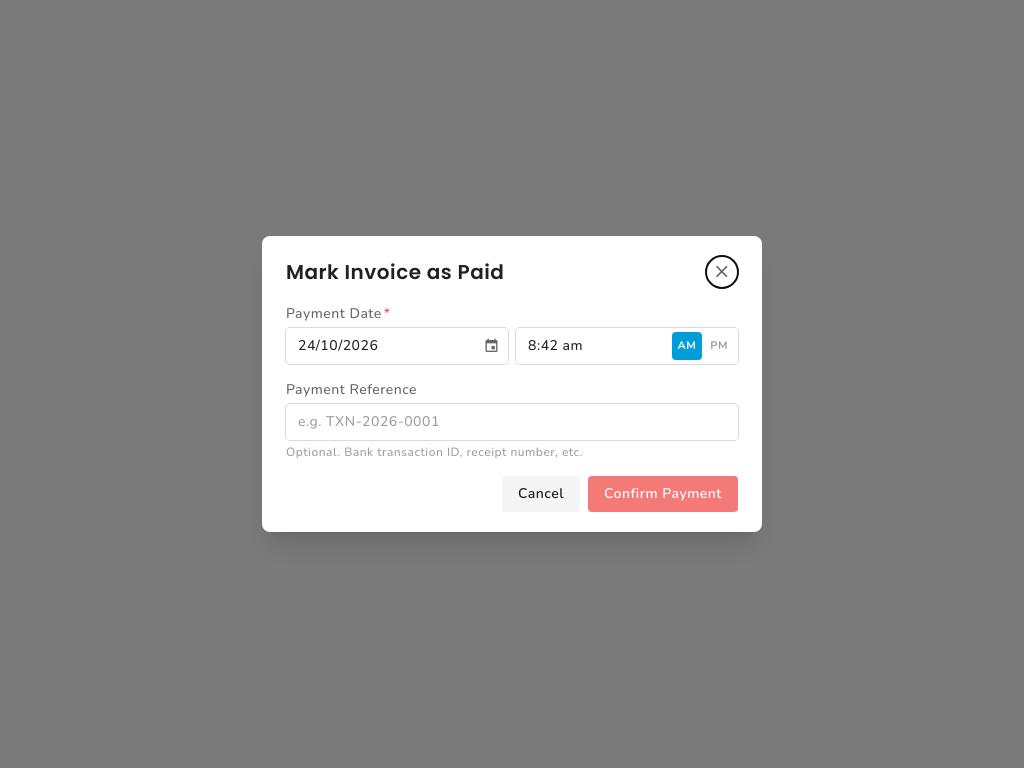
Test: MarkInvoicePaidModal › shows validation error when Payment Date is cleared and form is submitted
Clear the field named "Payment Date - date" at (383, 346), box [286, 328, 480, 364]
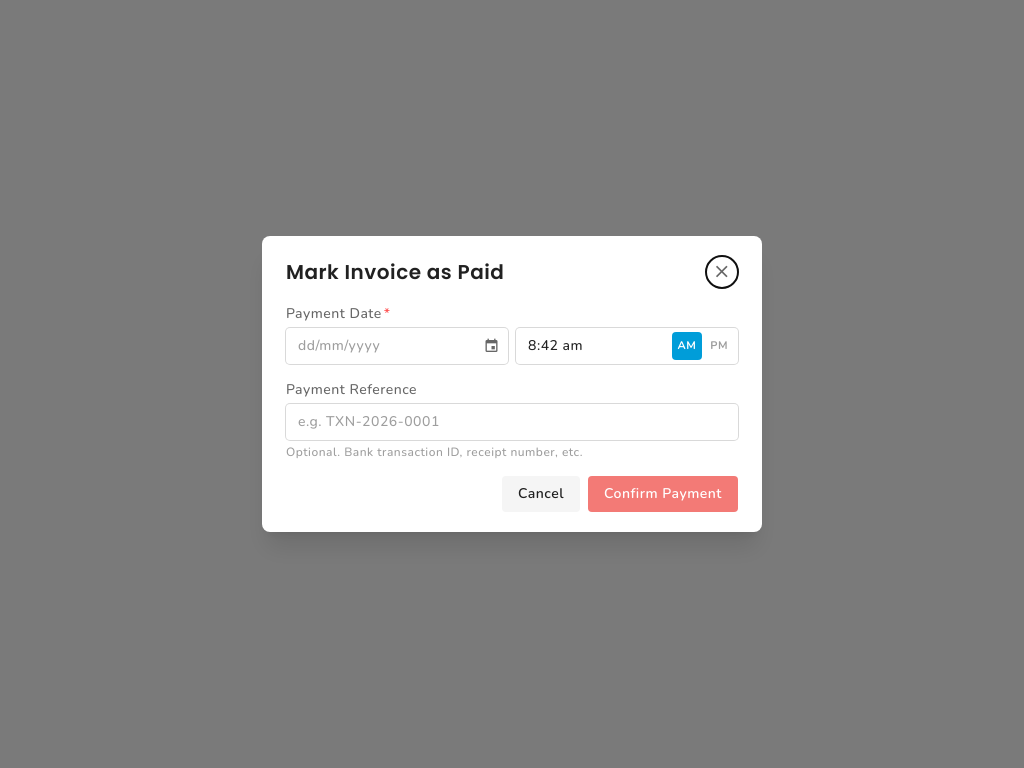
Click the button "Confirm Payment" at (663, 494), box [588, 476, 738, 512]
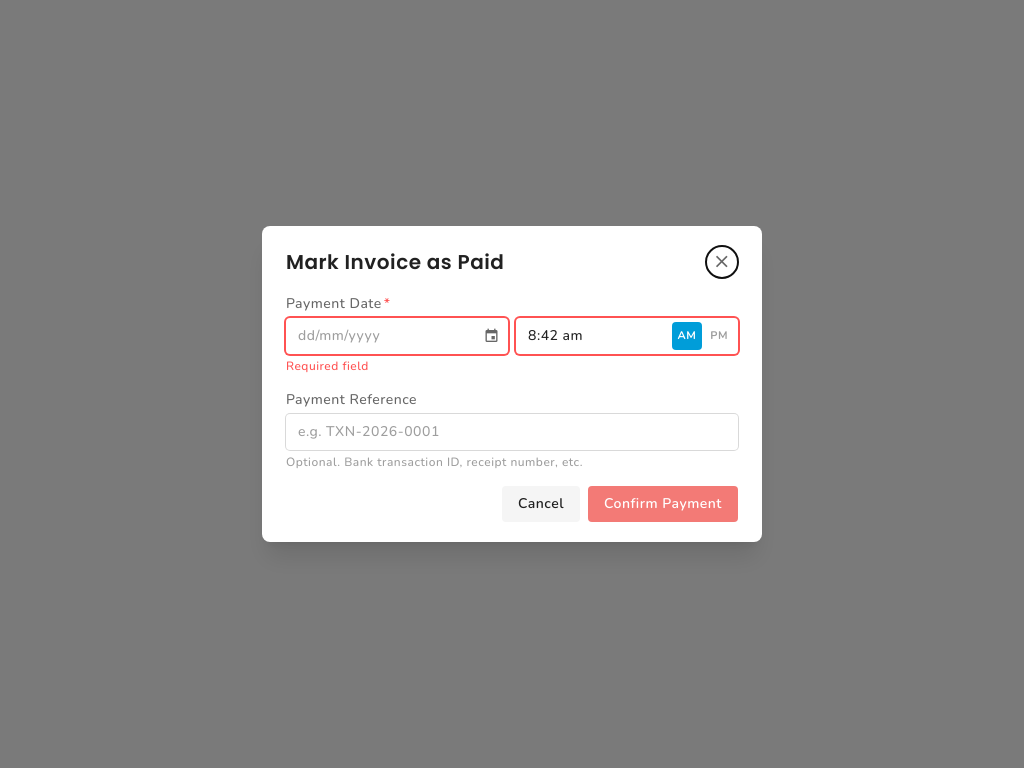
Expected: the text "Required field" is shown, [286, 358, 369, 374]
